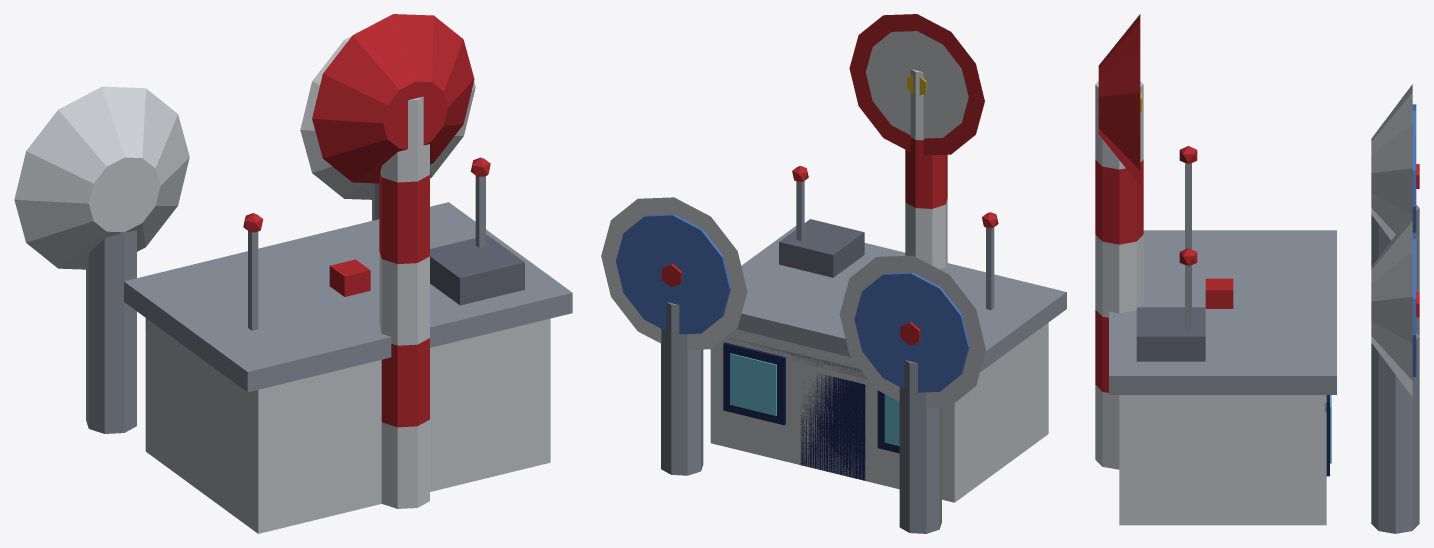
The model's file is Decor_HeroHQ_Dishes.fbx.
3 renders of one model, left to right at view 1: azimuth 30°, elevation 25°; view 2: azimuth 150°, elevation 25°; view 3: azimuth 270°, elevation 25°, orthographic. The views are drawn at different scales.
Parts seen in each view (by area): view 1: Dishes_Body; view 2: Dishes_Body; view 3: Dishes_Body.
Boxes of the visible parts, x1,y1,x2,y2 form: Dishes_Body: (14,14,572,533); Dishes_Body: (601,14,1066,533); Dishes_Body: (1095,14,1419,533).
Size of the model in its own units: 14.2 by 14 by 9.4.
